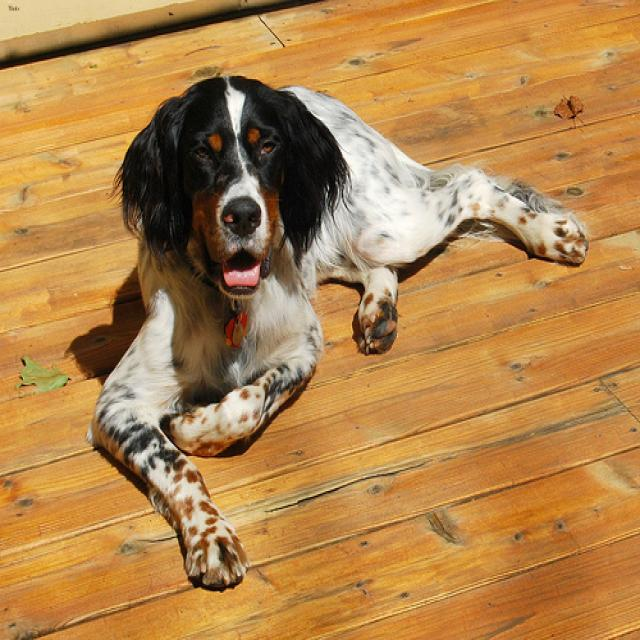dog-english_setter: (73, 70, 595, 602)
